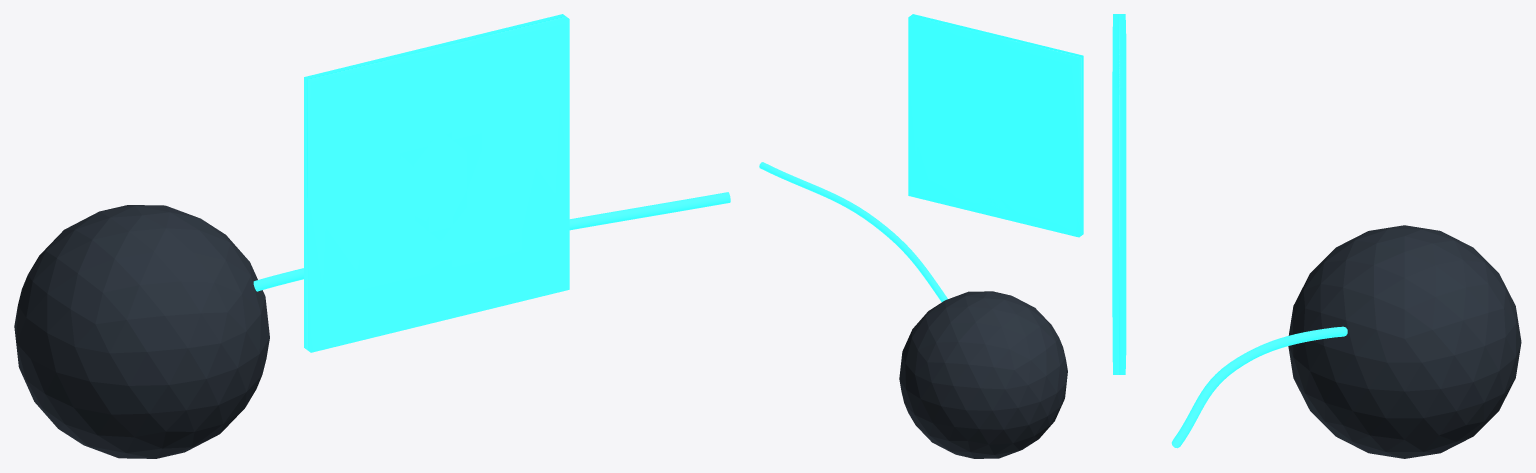
File: context-core-med.glb
3 renders of one model, left to right at view 1: azimuth 30°, elevation 25°; view 2: azimuth 150°, elevation 25°; view 3: azimuth 270°, elevation 25°, orthographic. The views are drawn at different scales.
Visible parts, largest first — view 1: NL_LOGO_NX_C_02_R1_MED, NL_CORE_Context_A_MED, NL_ROUTE_Primary_01_MED; view 2: NL_LOGO_NX_C_02_R1_MED, NL_CORE_Context_A_MED, NL_ROUTE_Primary_01_MED; view 3: NL_CORE_Context_A_MED, NL_LOGO_NX_C_02_R1_MED, NL_ROUTE_Primary_01_MED.
Boxes of the visible parts, bbox=[...] form: NL_LOGO_NX_C_02_R1_MED: bbox=[304, 14, 569, 352]; NL_CORE_Context_A_MED: bbox=[14, 205, 269, 458]; NL_ROUTE_Primary_01_MED: bbox=[253, 192, 730, 291]; NL_LOGO_NX_C_02_R1_MED: bbox=[908, 14, 1083, 237]; NL_CORE_Context_A_MED: bbox=[899, 291, 1067, 458]; NL_ROUTE_Primary_01_MED: bbox=[759, 162, 947, 301]; NL_CORE_Context_A_MED: bbox=[1288, 225, 1521, 458]; NL_LOGO_NX_C_02_R1_MED: bbox=[1112, 14, 1126, 374]; NL_ROUTE_Primary_01_MED: bbox=[1171, 326, 1347, 448].
Size of the model in its own units: 4.23 by 3.39 by 2.87.
